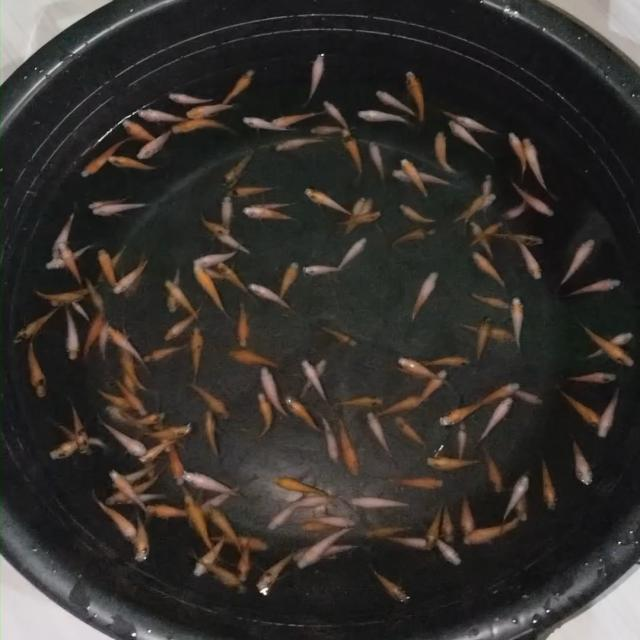nila: (574, 316, 640, 366), (101, 324, 156, 378), (290, 530, 353, 576), (399, 353, 467, 394), (91, 492, 140, 546), (200, 472, 260, 516), (190, 262, 232, 319), (189, 552, 247, 592), (77, 138, 129, 182), (184, 378, 236, 422), (12, 304, 66, 346), (161, 292, 208, 340), (556, 234, 598, 287), (456, 514, 520, 548), (183, 466, 243, 502), (178, 494, 215, 550), (524, 136, 556, 199), (98, 417, 147, 458), (97, 473, 152, 509), (264, 491, 312, 532), (330, 414, 360, 479), (361, 409, 399, 459), (116, 316, 142, 389), (510, 176, 556, 217), (164, 278, 204, 324), (478, 395, 514, 446), (369, 565, 414, 605), (191, 237, 246, 269), (511, 229, 546, 279), (408, 271, 442, 322), (301, 357, 337, 405), (253, 550, 292, 594), (207, 506, 245, 551), (450, 118, 495, 156), (74, 304, 108, 354), (202, 528, 270, 553), (390, 162, 458, 187), (270, 255, 306, 302), (188, 533, 228, 575), (338, 126, 370, 178), (260, 365, 290, 420), (475, 442, 505, 497), (245, 278, 292, 313), (48, 435, 106, 463), (133, 127, 180, 161), (471, 246, 508, 289), (280, 488, 341, 514), (128, 498, 152, 564), (46, 241, 98, 271), (584, 330, 636, 360), (218, 68, 256, 109), (54, 239, 86, 287), (302, 50, 329, 106), (52, 203, 78, 261), (305, 186, 353, 217), (452, 190, 498, 222), (138, 338, 194, 364), (462, 321, 518, 347), (568, 274, 624, 300), (392, 412, 432, 448), (118, 346, 150, 390), (108, 152, 162, 178), (501, 472, 528, 524), (111, 470, 146, 510), (93, 242, 121, 291), (290, 542, 366, 560), (562, 390, 600, 426), (286, 394, 320, 434), (223, 146, 256, 187), (318, 412, 343, 466), (111, 258, 153, 290), (374, 88, 416, 120), (405, 68, 429, 124), (568, 436, 596, 484), (220, 259, 253, 299), (187, 323, 206, 392), (91, 386, 145, 410), (373, 394, 427, 418), (316, 321, 364, 348), (227, 346, 283, 369), (357, 106, 413, 129), (402, 155, 430, 201), (432, 131, 458, 180), (136, 434, 177, 465), (483, 227, 546, 247), (120, 253, 146, 301), (422, 500, 448, 548), (478, 380, 522, 408), (468, 217, 509, 247), (332, 234, 368, 268), (268, 110, 329, 130), (320, 100, 358, 132), (598, 390, 622, 440), (435, 404, 482, 429), (244, 202, 302, 222), (92, 200, 156, 218), (432, 534, 464, 570), (300, 356, 326, 400), (506, 131, 528, 183), (274, 474, 331, 494), (184, 100, 240, 120), (98, 246, 130, 281), (70, 400, 90, 456), (560, 368, 622, 386), (202, 408, 223, 461), (27, 347, 50, 395), (538, 457, 558, 512), (235, 116, 296, 134), (424, 456, 485, 474), (121, 118, 160, 146), (116, 380, 148, 414), (504, 190, 538, 222), (386, 227, 440, 247), (459, 192, 484, 235), (49, 282, 90, 308), (254, 391, 275, 441), (420, 369, 450, 404), (270, 136, 328, 154), (340, 194, 366, 234), (468, 220, 494, 260), (197, 208, 234, 236), (64, 303, 82, 360), (113, 463, 154, 488), (144, 418, 195, 438), (333, 206, 384, 226), (511, 294, 528, 354), (220, 227, 255, 256), (368, 138, 390, 184), (48, 419, 84, 447), (396, 201, 438, 225), (358, 522, 413, 540), (234, 294, 252, 349), (142, 502, 194, 521), (167, 120, 236, 134), (512, 484, 536, 524), (469, 290, 512, 312), (384, 529, 427, 551), (440, 494, 458, 546), (106, 405, 148, 427), (476, 312, 494, 363), (510, 384, 548, 408), (164, 90, 229, 104), (350, 197, 376, 232), (166, 442, 187, 485), (233, 538, 254, 581), (343, 496, 418, 508), (481, 172, 499, 222), (388, 476, 447, 491), (167, 262, 183, 317), (133, 110, 195, 124), (301, 260, 348, 278), (452, 418, 470, 464), (457, 116, 502, 134), (116, 490, 166, 506), (85, 272, 106, 310), (458, 492, 476, 536), (308, 513, 360, 528), (85, 196, 132, 212), (232, 182, 282, 197), (155, 413, 173, 454), (197, 260, 236, 278), (293, 521, 345, 534), (221, 194, 235, 242), (96, 323, 112, 364), (336, 395, 386, 408), (132, 408, 167, 426), (309, 122, 354, 136), (67, 298, 91, 324), (422, 356, 474, 368), (391, 364, 430, 380), (440, 108, 468, 126), (36, 293, 86, 302), (253, 198, 294, 208), (144, 446, 156, 479)
